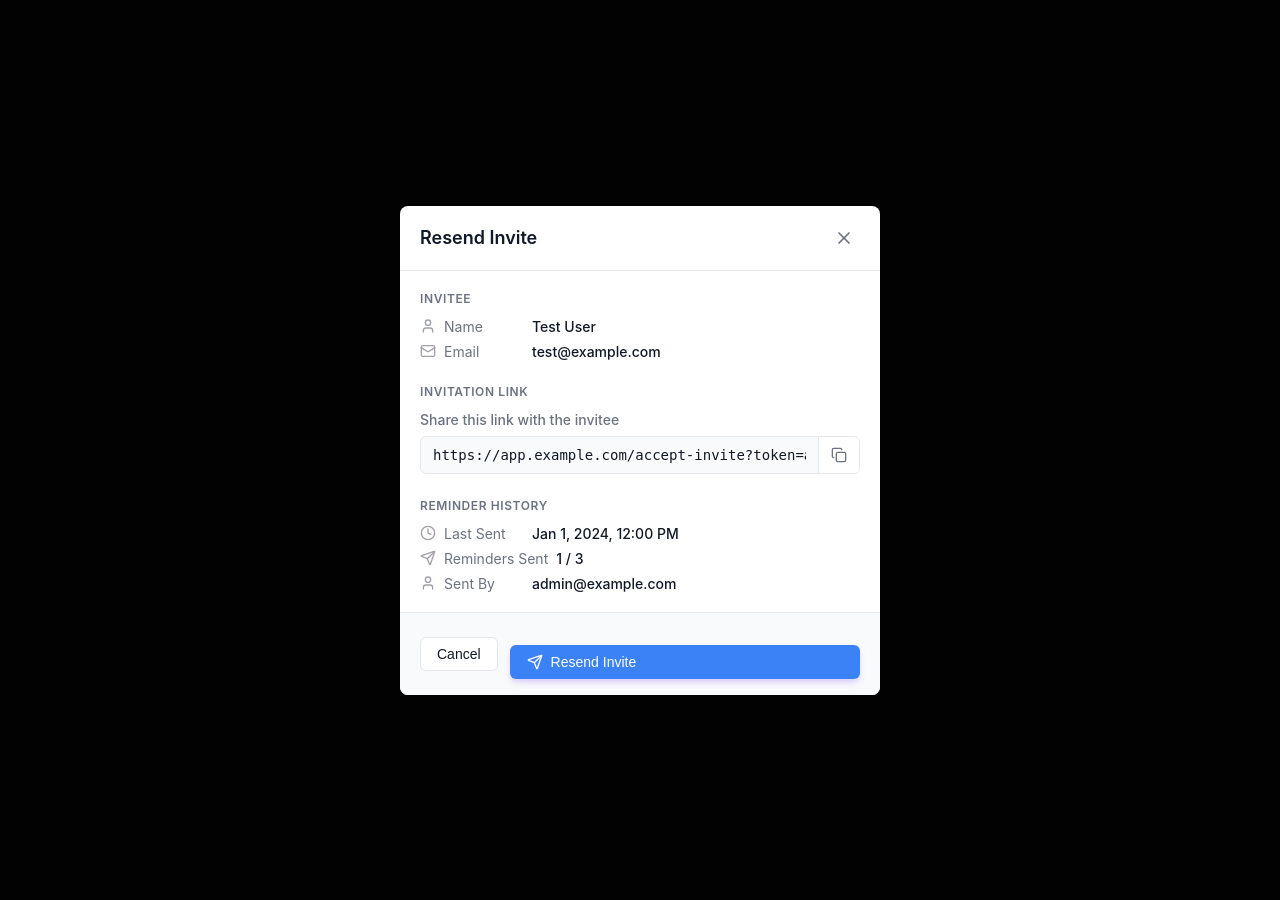
Test: InviteResendModal › updates modal state after resend when cap is reached
expect the text "1 / 3" is shown: met, box x1=556 y1=550 x2=583 y2=566
Click the button "Resend Invite" at coordinates (593, 662), box x1=510 y1=644 x2=860 y2=678
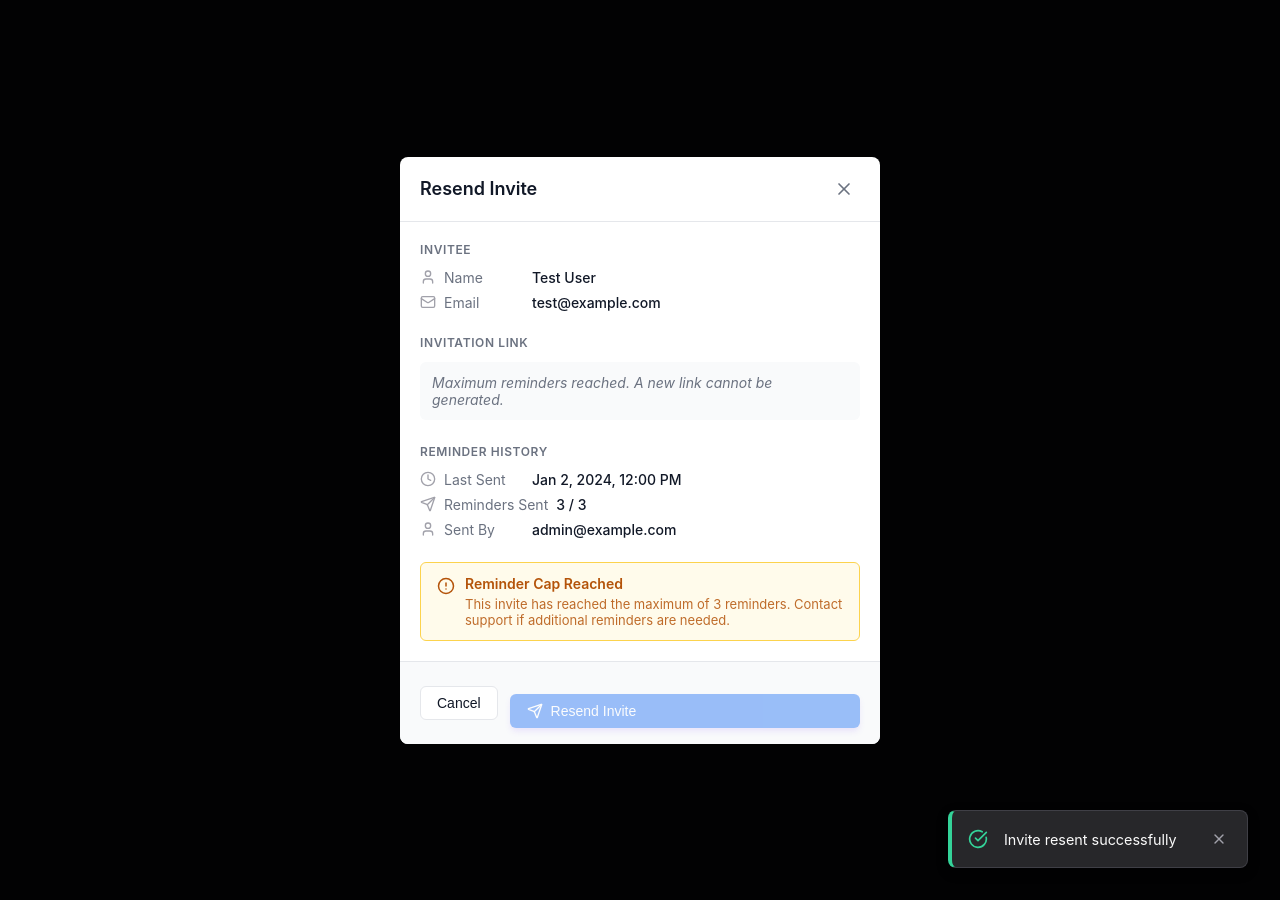
expect the text "3 / 3" is shown: met, box x1=556 y1=496 x2=586 y2=512
